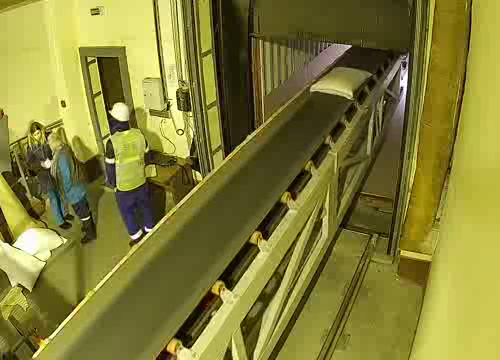bag: (310, 67, 373, 100)
